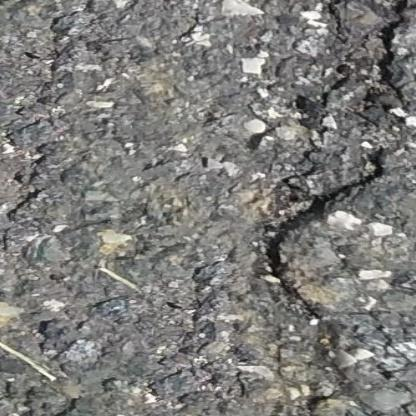Cracks: (263, 152, 394, 416), (374, 0, 416, 100), (320, 61, 354, 111)
